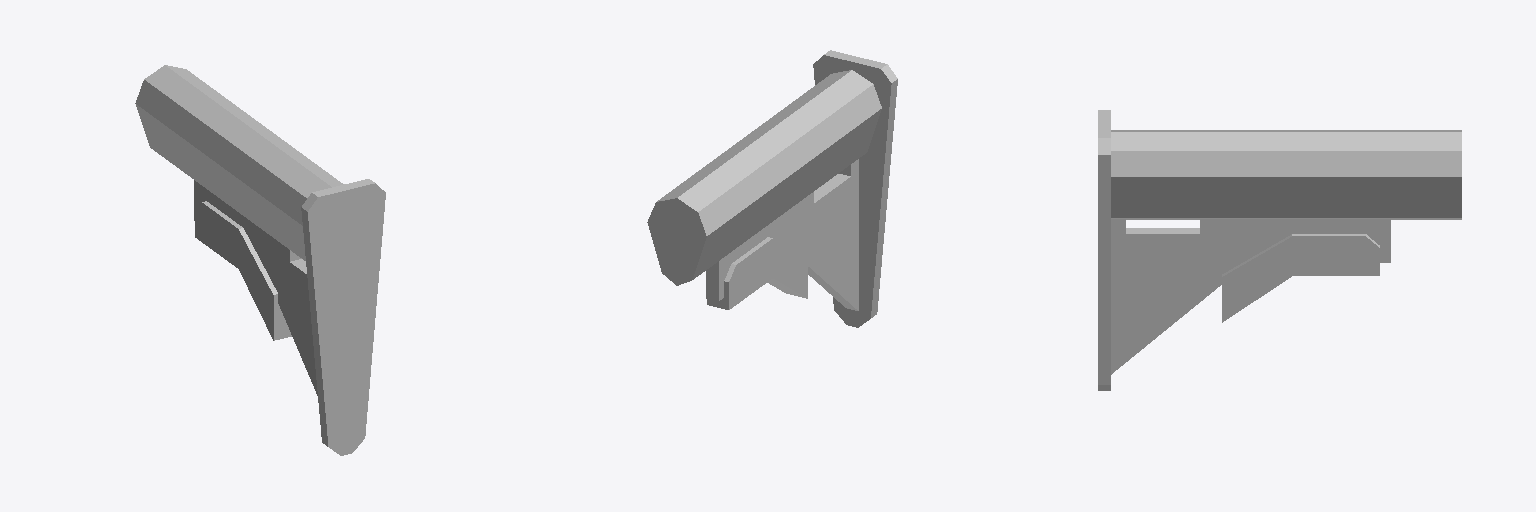
The model's file is m4_butt.obj.
The picture shows the model from 3 angles: view 1: azimuth 30°, elevation 25°; view 2: azimuth 150°, elevation 25°; view 3: azimuth 270°, elevation 25°; orthographic projection.
Parts seen in each view (by area): view 1: butt_Mesh.060; view 2: butt_Mesh.060; view 3: butt_Mesh.060.
Part boxes in pixels (bbox=[...]): butt_Mesh.060: bbox=[135, 65, 385, 455]; butt_Mesh.060: bbox=[647, 50, 897, 327]; butt_Mesh.060: bbox=[1098, 110, 1461, 390].
Bounding box in the file's own units: 0.0476 × 0.1534 × 0.1911.